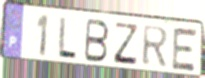1: (34, 13, 50, 58)
B: (82, 17, 111, 64)
E: (170, 26, 199, 74)
L: (56, 15, 79, 61)
R: (142, 24, 171, 68)
Z: (112, 21, 140, 67)
